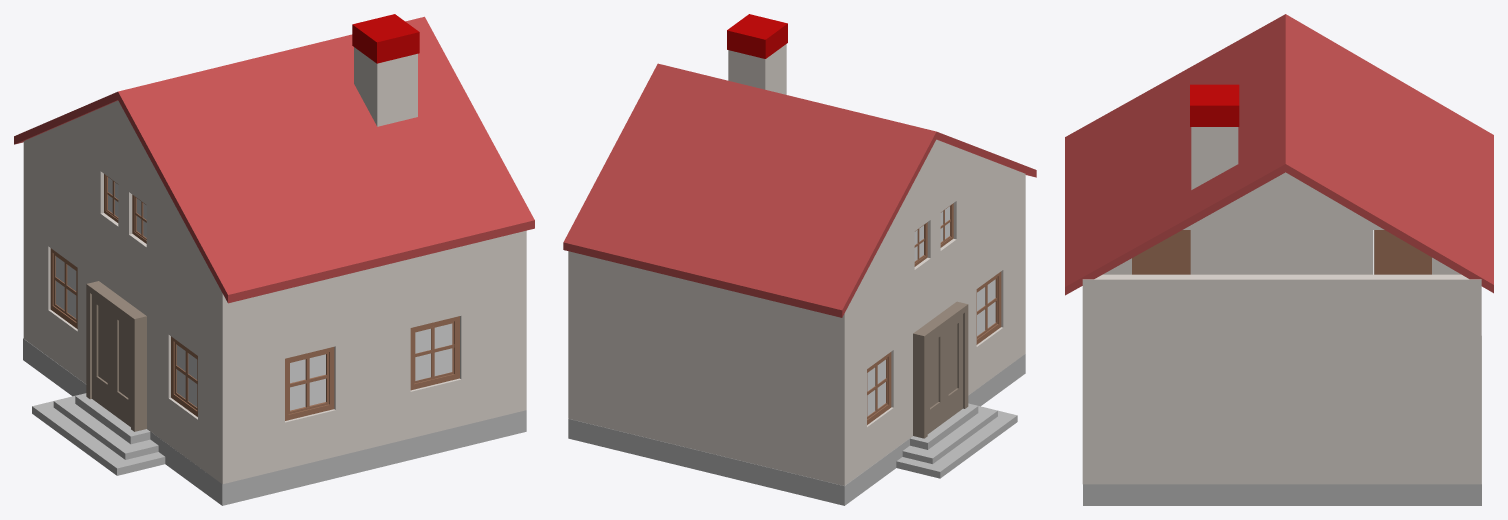
Rendered from house.dae.
The picture shows the model from 3 angles, left to right: view 1: azimuth 30°, elevation 25°; view 2: azimuth 150°, elevation 25°; view 3: azimuth 270°, elevation 25°; orthographic projection. The views are drawn at different scales.
Parts seen in each view (by area): view 1: Wall01, Box02, Box01, BiFoldDoor, Box04, Box11, Box23, Box10, Plane06, Plane01, AwningWin1, AwningWin2 (+5 smaller); view 2: Wall01, Box02, Box01, BiFoldDoor, Box11, Box04, Box23, Box10, Box09, Plane04, Plane05, AwningWind (+1 smaller); view 3: Wall01, Box02, Box01, Box04, Box23, AwningWin0, AwningWind.
Part boxes in pixels (x1,y1,x2,y2): Wall01: (23, 100, 526, 484); Box02: (14, 16, 534, 303); Box01: (23, 338, 526, 505); BiFoldDoor: (86, 281, 146, 431); Box04: (354, 47, 417, 126); Box11: (32, 401, 165, 475); Box23: (352, 14, 419, 63); Box10: (53, 393, 158, 459); Plane06: (415, 323, 452, 380); Plane01: (290, 354, 325, 410); AwningWin1: (285, 347, 334, 420); AwningWin2: (410, 316, 459, 390); Wall01: (568, 139, 1025, 485); Box02: (563, 63, 1036, 317); Box01: (568, 354, 1025, 505); BiFoldDoor: (913, 301, 968, 438); Box11: (896, 410, 1017, 478); Box04: (728, 44, 786, 94); Box23: (727, 14, 787, 58); Box10: (902, 403, 997, 463); Box09: (910, 403, 978, 449); Plane04: (867, 359, 885, 416); Plane05: (977, 279, 995, 335); AwningWind: (976, 271, 1001, 344); Wall01: (1082, 172, 1481, 484); Box02: (1065, 14, 1493, 295); Box01: (1083, 336, 1481, 505); Box04: (1191, 127, 1238, 189); Box23: (1190, 84, 1239, 126); AwningWin0: (1374, 230, 1431, 274); AwningWind: (1132, 230, 1190, 274).
Bounding box in the file's own units: 0.1733 × 0.1823 × 0.1756.
